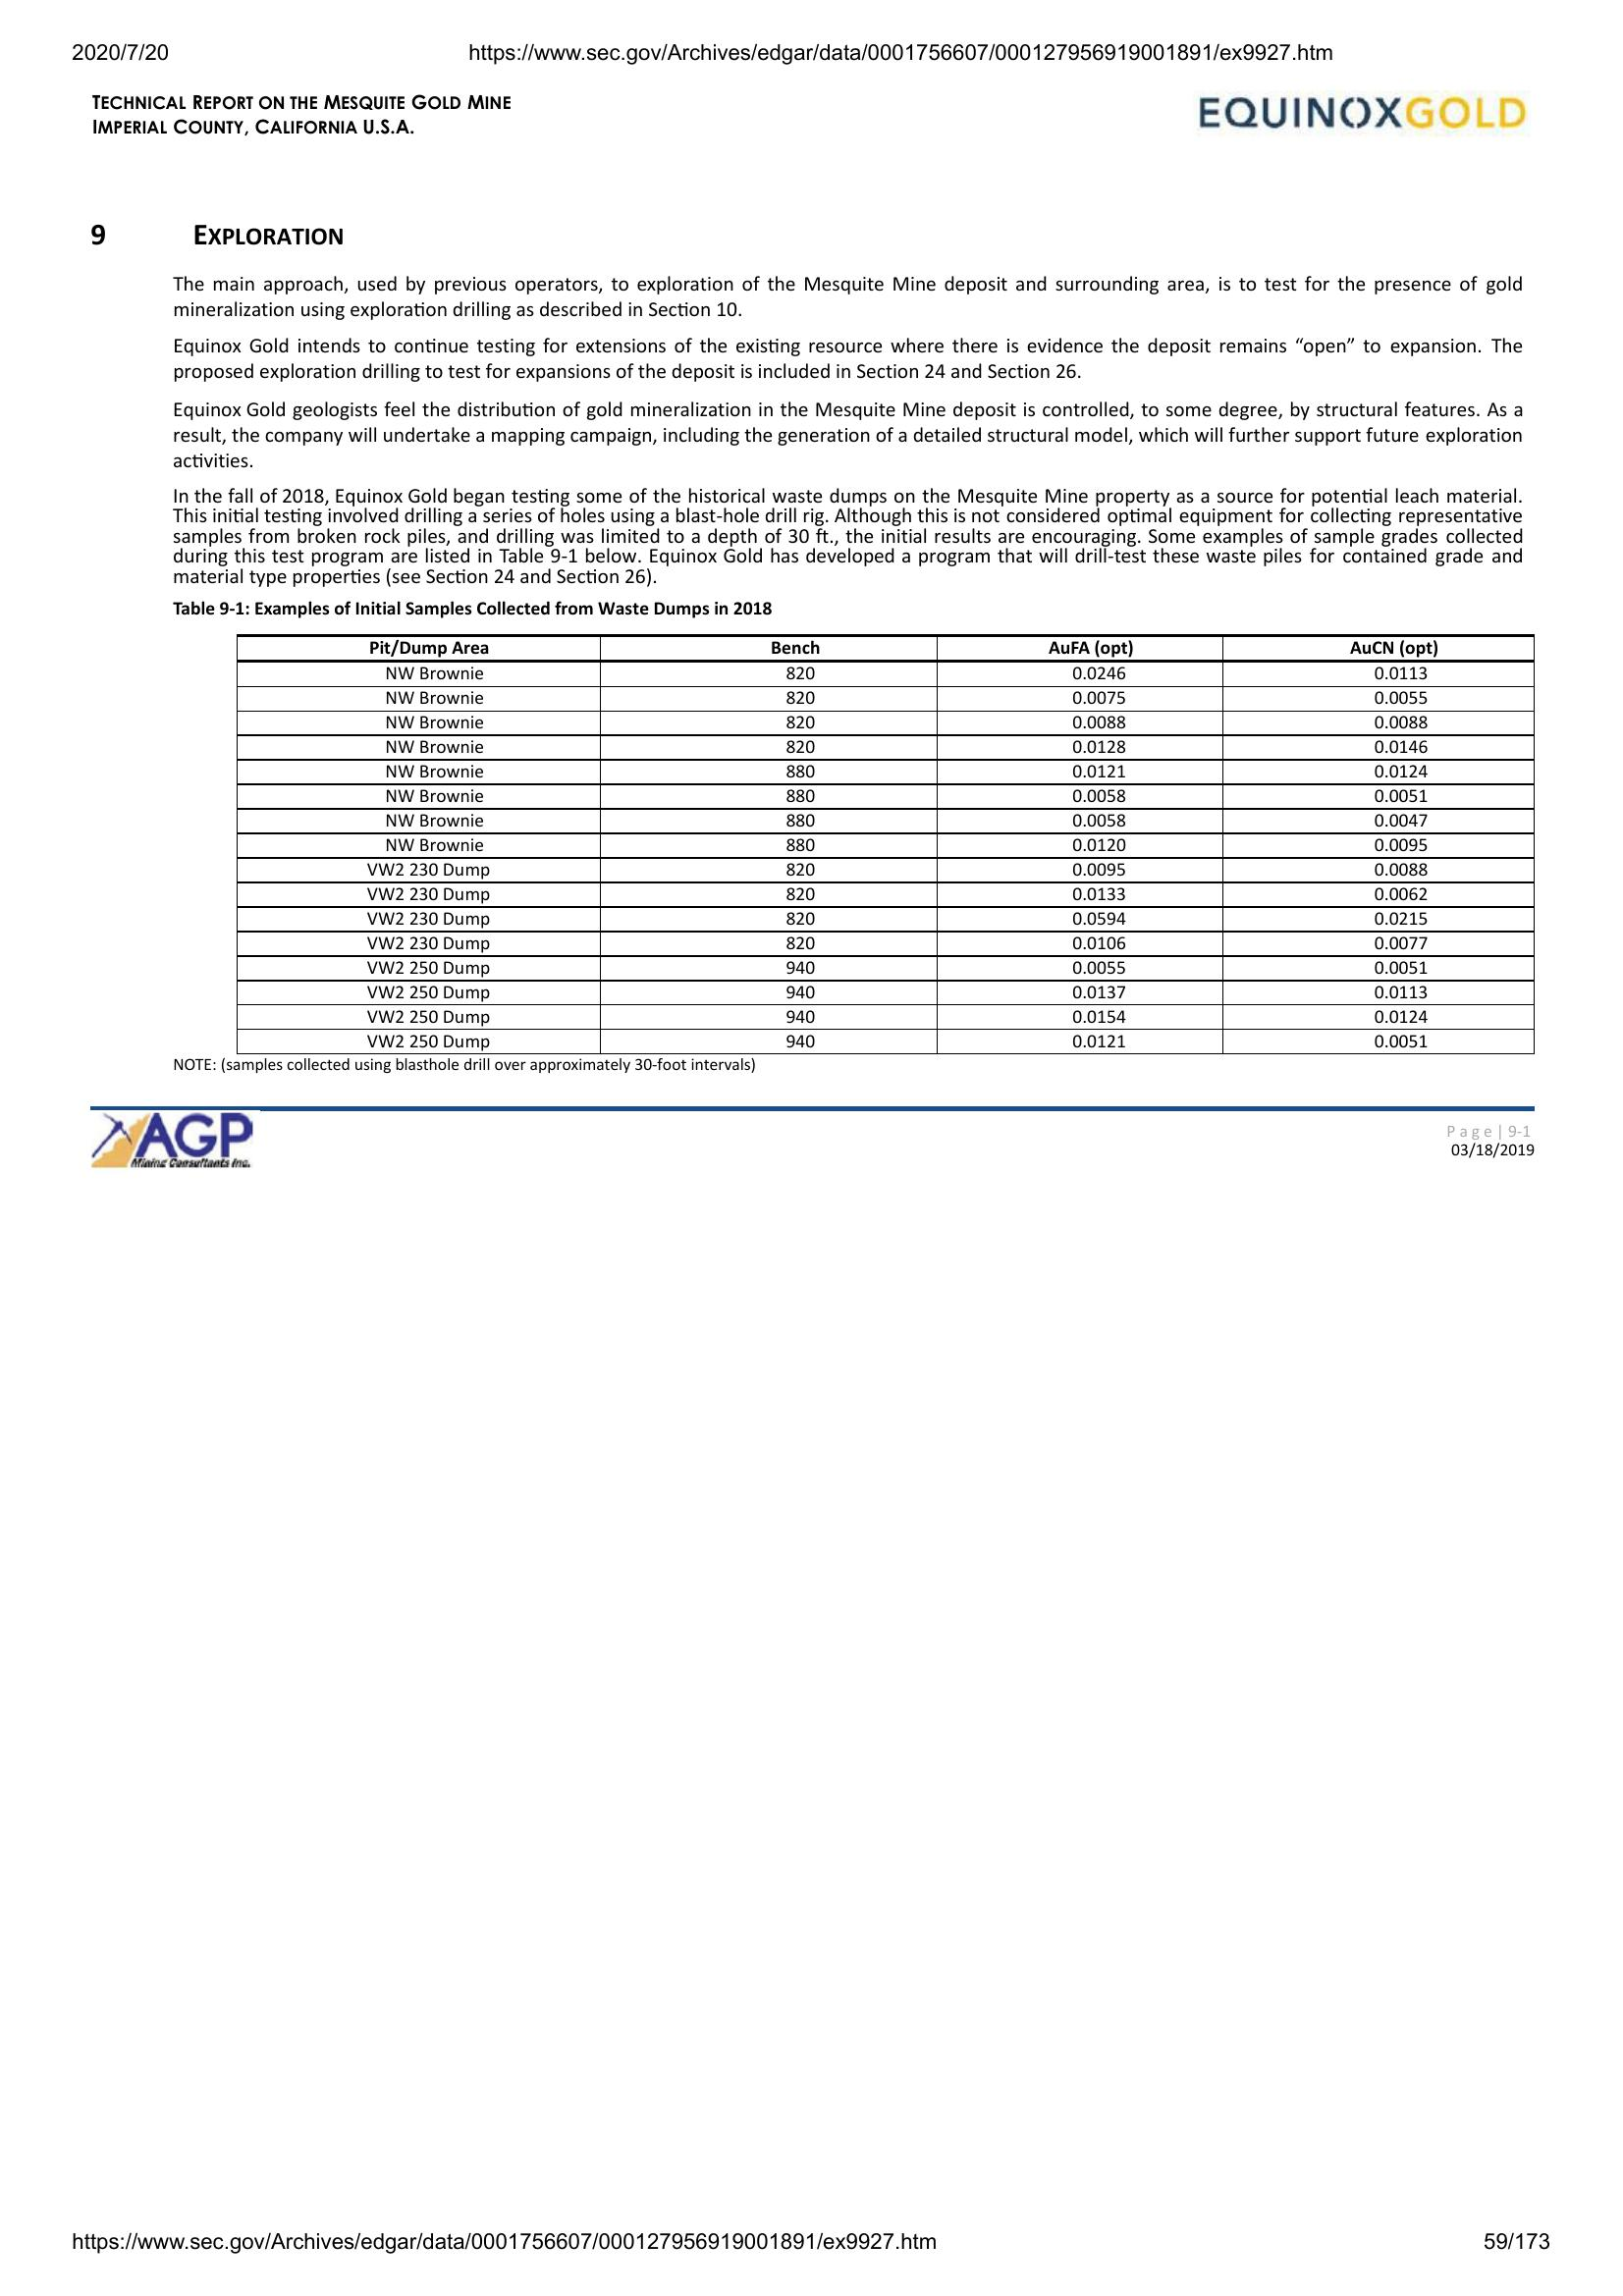table: (230, 630, 1540, 1064)
